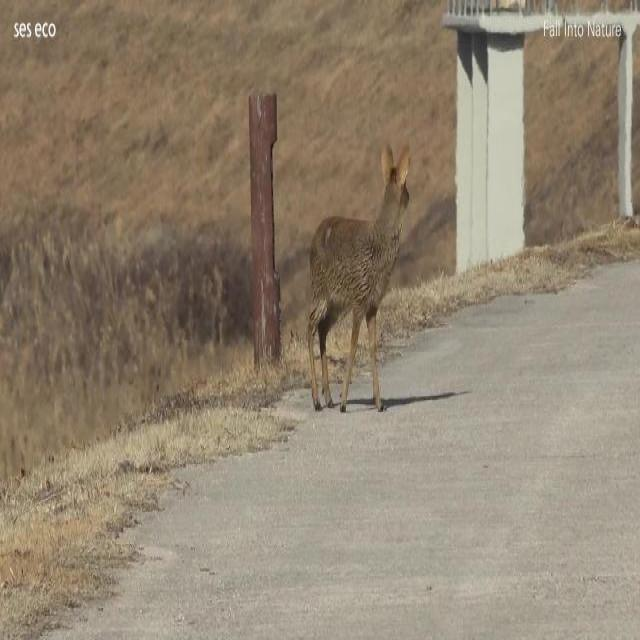deer: (306, 136, 414, 412)
